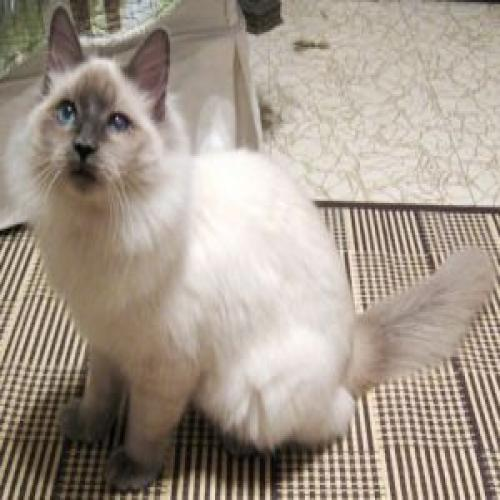ragdoll: (24, 4, 176, 221)
